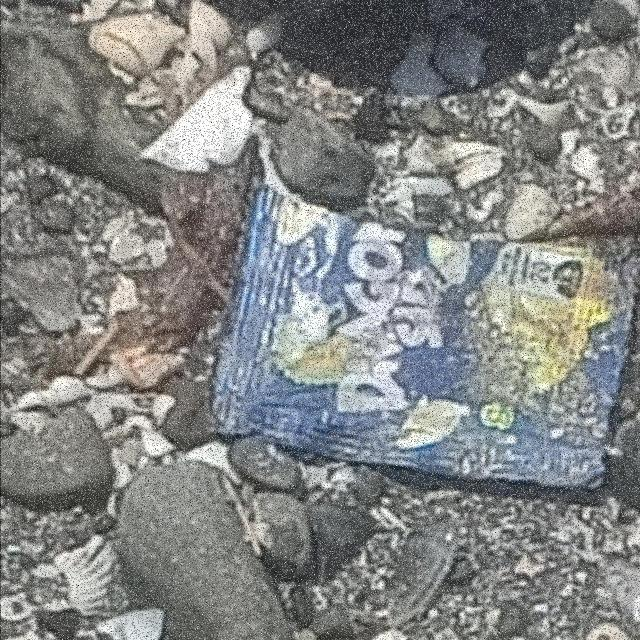plastic_waste: (205, 181, 640, 497)
